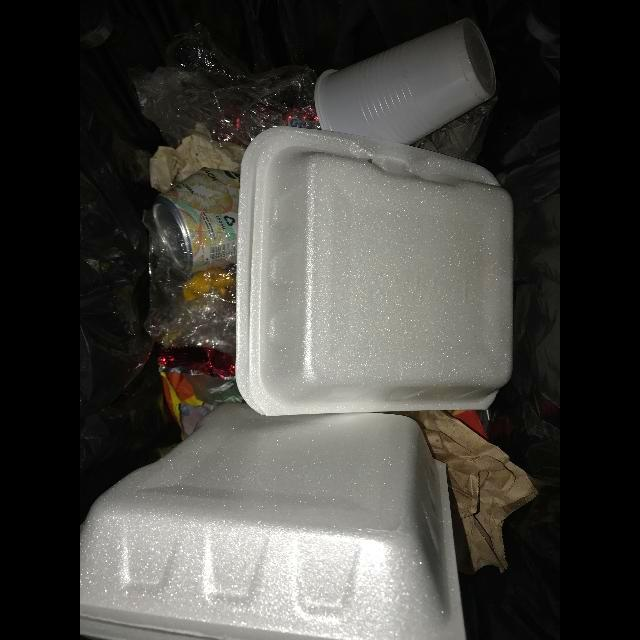aluminum: (152, 167, 240, 275)
paper: (397, 410, 538, 574), (150, 135, 246, 193)
plastic_container: (314, 18, 497, 146)
